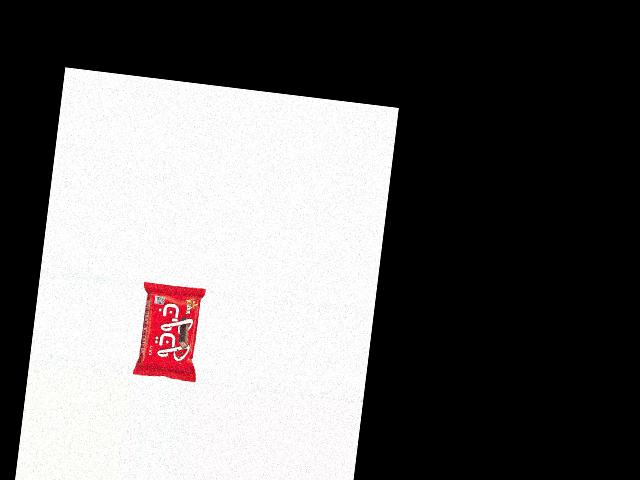chocolate: (131, 281, 206, 381)
